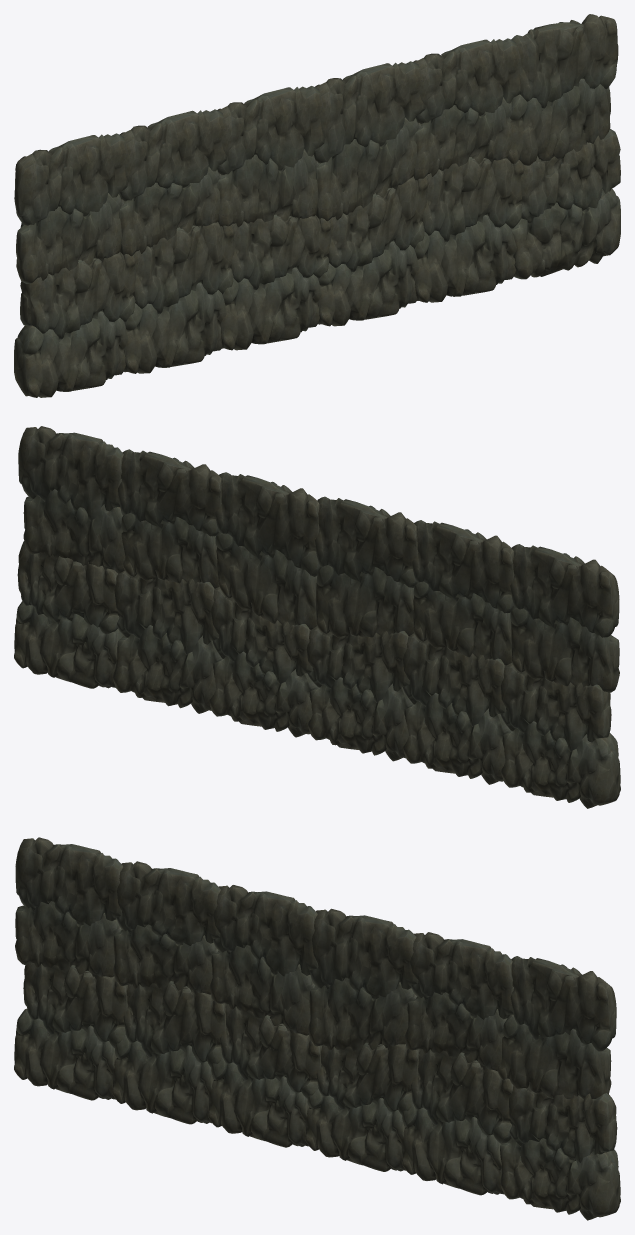
Rendered from cliffWall_longTall_1.fbx.
3 views of the same model, one above another, from view 1: azimuth 30°, elevation 25°; view 2: azimuth 150°, elevation 25°; view 3: azimuth 330°, elevation 25° (orthographic).
Visible parts, largest first — view 1: longCliff_3; view 2: longCliff_3; view 3: longCliff_3.
Part boxes in pixels (left/top/right/bottom): longCliff_3: left=14, top=14, right=620, bottom=397; longCliff_3: left=14, top=426, right=620, bottom=808; longCliff_3: left=14, top=837, right=620, bottom=1220.
Size of the model in its own units: 2532 by 1001 by 174.
